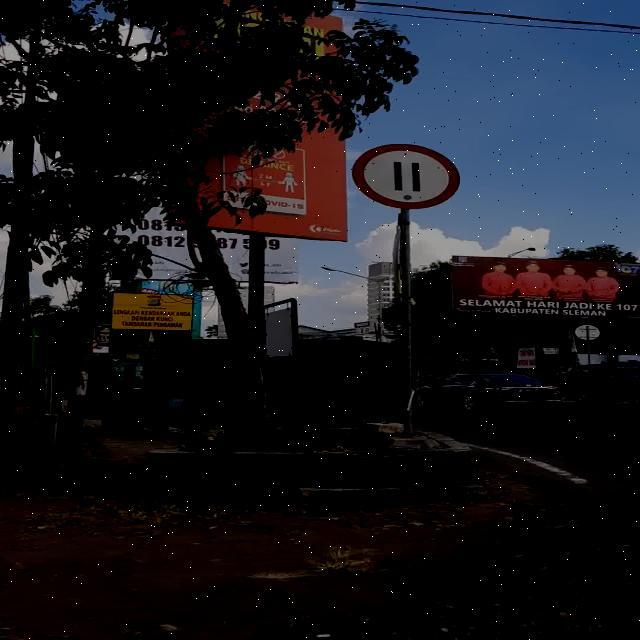Larangan Muatan - 10 ton: (352, 144, 460, 209)
